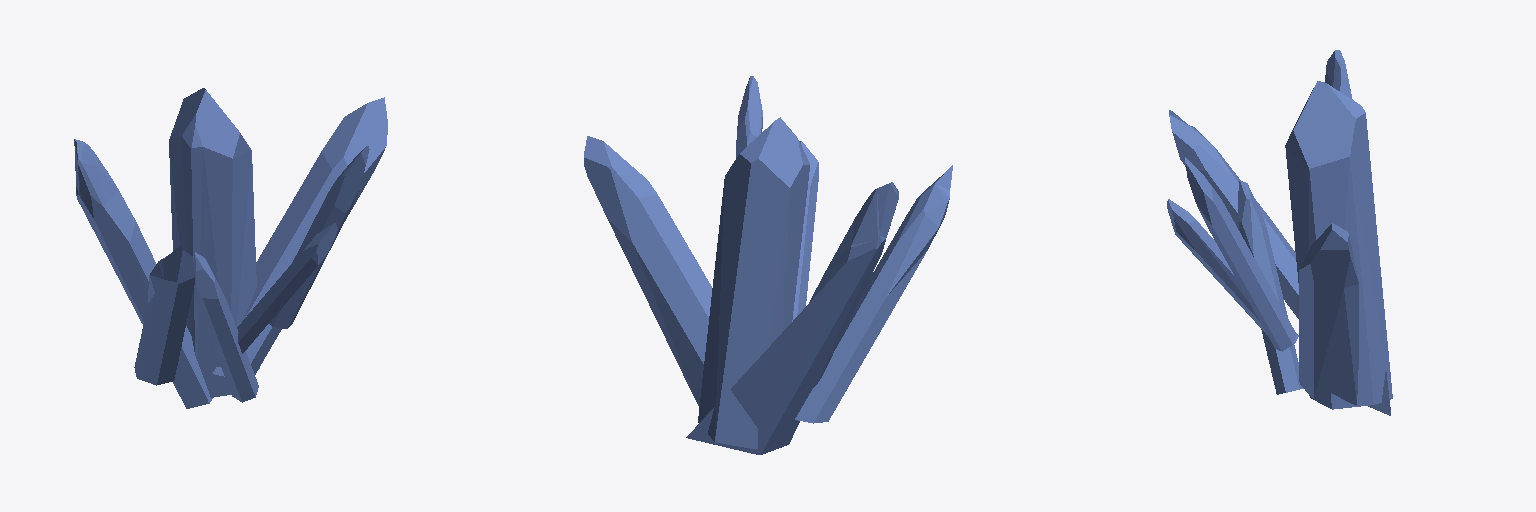
The model's file is crystal1.obj.
3 views of the same model, side by side, from view 1: azimuth 30°, elevation 25°; view 2: azimuth 150°, elevation 25°; view 3: azimuth 270°, elevation 25° (orthographic).
Visible parts, largest first — view 1: Cylinder; view 2: Cylinder; view 3: Cylinder.
Part boxes in pixels (x1,y1,x2,y2): Cylinder: (74, 88, 387, 408); Cylinder: (584, 76, 952, 454); Cylinder: (1167, 50, 1392, 415).
Size of the model in its own units: 7.91 by 7.83 by 5.